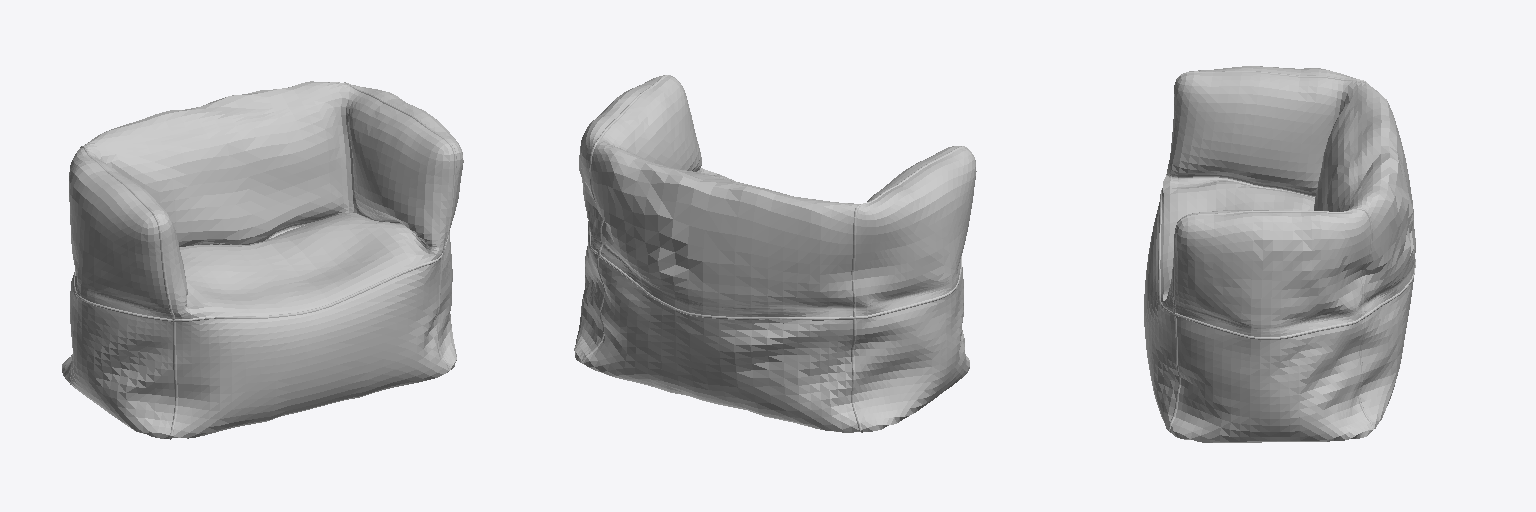
File: bag-chair.obj
3 renders of one model, left to right at view 1: azimuth 30°, elevation 25°; view 2: azimuth 150°, elevation 25°; view 3: azimuth 270°, elevation 25°, orthographic.
Parts seen in each view (by area): view 1: bag_chair; view 2: bag_chair; view 3: bag_chair.
Boxes of the visible parts, box(x1,y1,x2,y2) form: bag_chair: box(62, 81, 463, 439); bag_chair: box(574, 75, 976, 432); bag_chair: box(1144, 66, 1415, 442).
Size of the model in its own units: 0.9442 by 0.5799 by 0.6182.